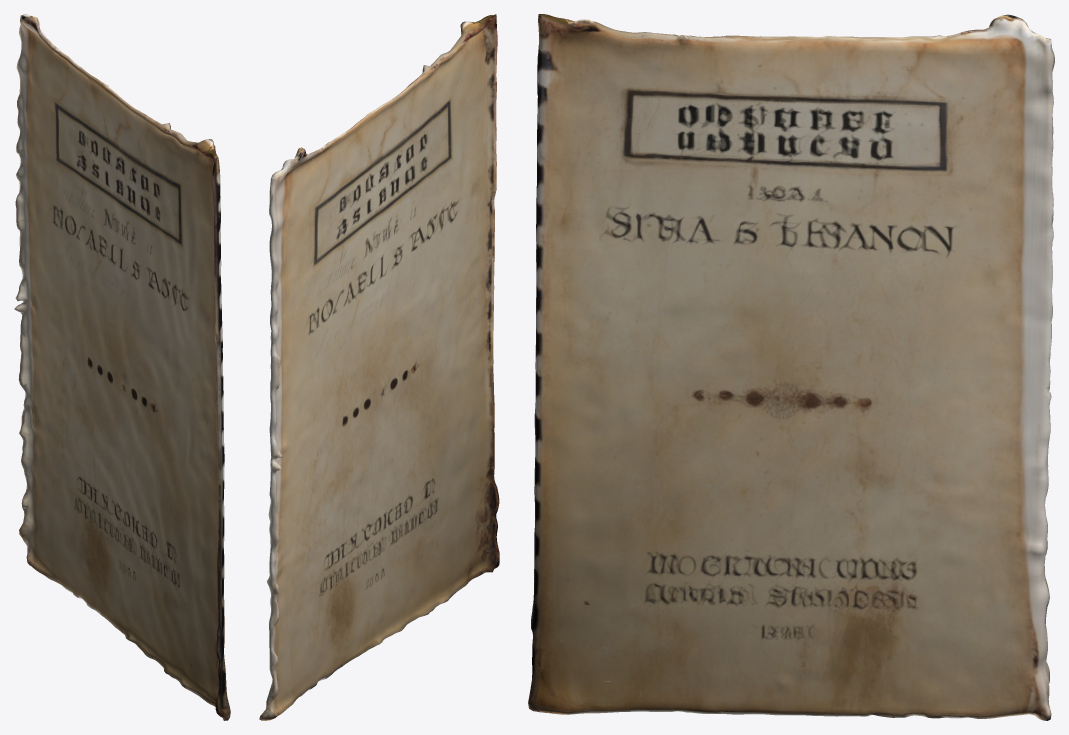
File: cookbook.glb
3 renders of one model, left to right at view 1: azimuth 30°, elevation 25°; view 2: azimuth 150°, elevation 25°; view 3: azimuth 270°, elevation 25°, orthographic. The views are drawn at different scales.
Bounding box in the file's own units: 0.1148 × 2 × 1.37.
1 material, 1 textured.
